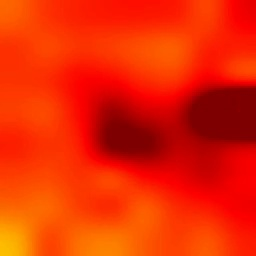person: (96, 95, 187, 168)
